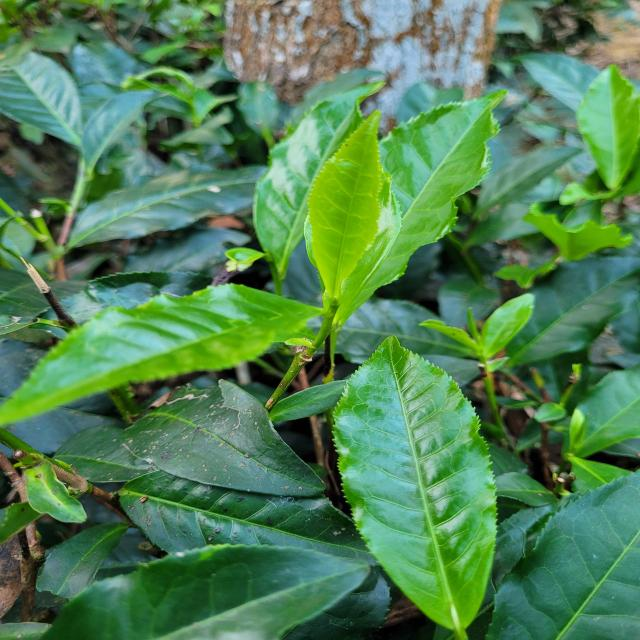Catagory A(1-2 days): (296, 109, 442, 324)
